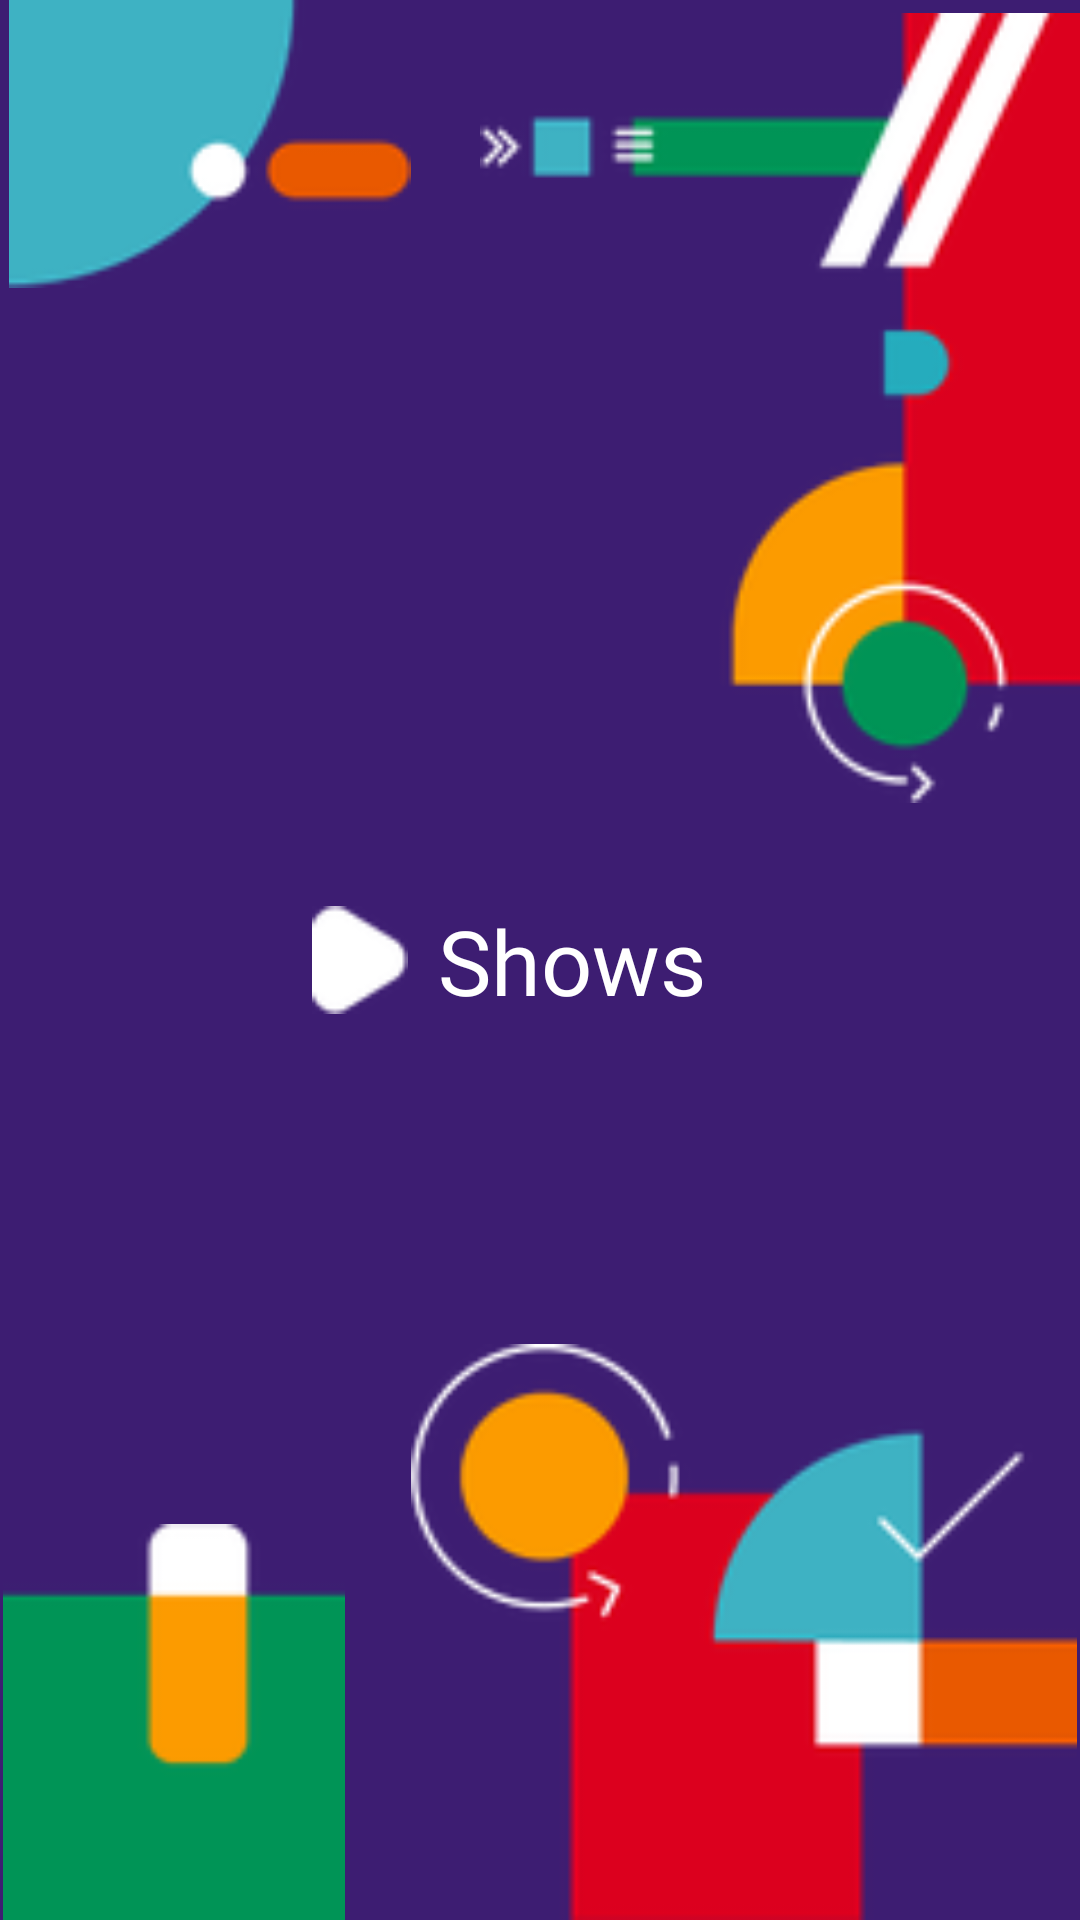

Screen size 1080px×1920px. Icon name, then its box in pixels as {"x1": x1, "y1": y1, "x2": x2, "y2": y2}:
triangle: {"x1": 312, "y1": 906, "x2": 408, "y2": 1014}
